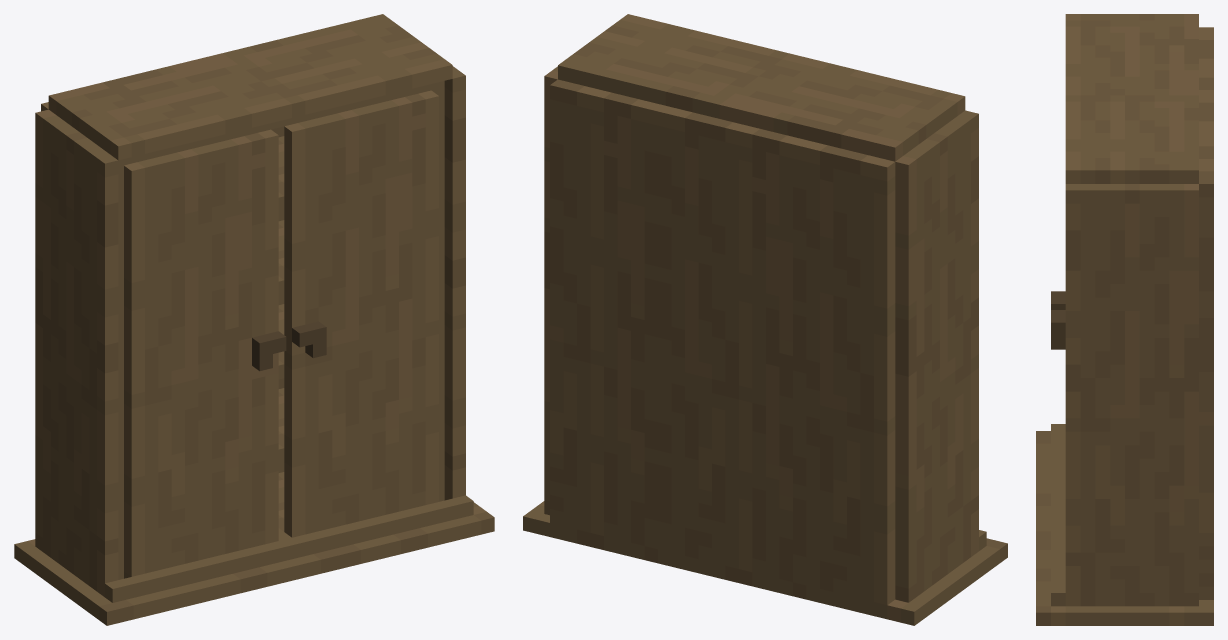
Rendered from Decor-67.obj.
The picture shows the model from 3 angles, left to right: view 1: azimuth 30°, elevation 25°; view 2: azimuth 150°, elevation 25°; view 3: azimuth 270°, elevation 25°; orthographic projection. The views are drawn at different scales.
Bounding box in the file's own units: 2.9 × 3.3 × 1.2.
1 material, 1 textured.
